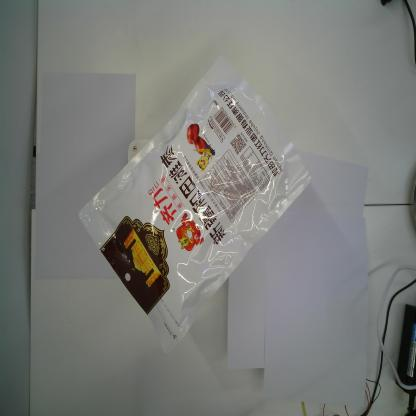Dried Food: (77, 54, 312, 354)
